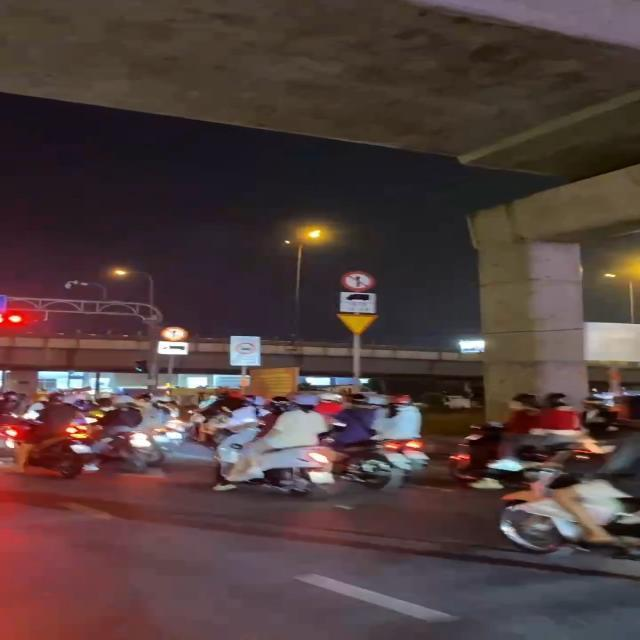136-cam-di-thang: (342, 270, 375, 292), (162, 326, 190, 342)
208-giao-nhau-voi-duong-uu-tien: (336, 313, 380, 335)
